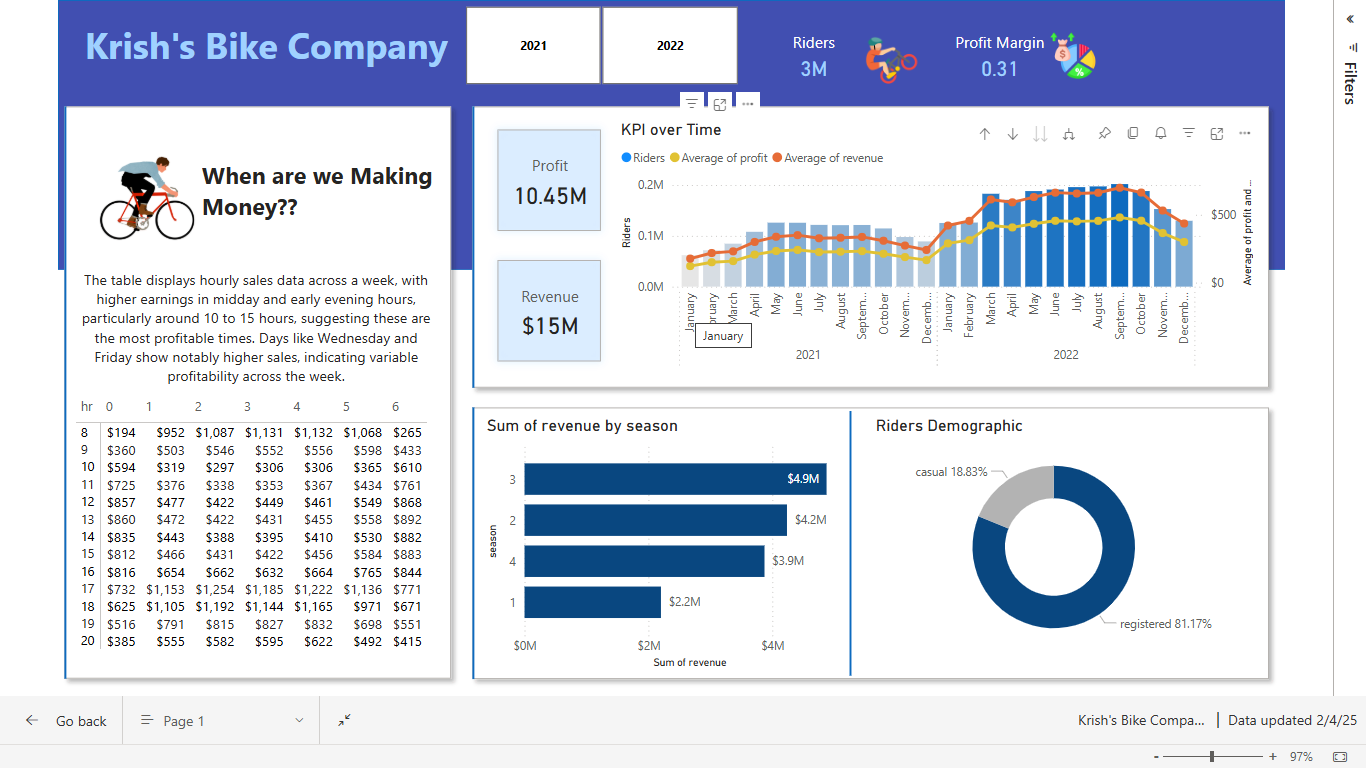

What the dashboard file says about the page in this screenshot:
{"tool":"powerbi","page":{"name":"Page 1","canvas":[1280,720],"ordinal":0},"visuals":[{"type":"shape","box":[10.1,0,1270.1,279.4],"z":0},{"type":"cardVisual","fields":{"Data":["Query1.riders"]},"box":[0,93.6,434.9,626.4],"z":1000},{"type":"cardVisual","fields":{"Data":["Query1.riders"]},"box":[421.9,93.6,858.2,325.4],"z":2000},{"type":"cardVisual","fields":{"Data":["Query1.riders"]},"box":[421.6,404.8,858.4,315.8],"z":3000},{"type":"cardVisual","fields":{"Data":["Query1.riders"]},"box":[20.2,110.9,171.3,168],"z":4000},{"type":"pivotTable","fields":{"Values":["Query1.revenue"],"Columns":["Query1.weekday"],"Rows":["Query1.hr"]},"box":[23.5,406.5,383,275.5],"z":5000},{"type":"textbox","box":[154.5,159.6,252,94.1],"z":6000},{"type":"textbox","box":[23.5,257,383,149.5],"z":7000},{"type":"lineClusteredColumnComboChart","title":"KPI over Time","fields":{"Category":["Query1.dteday.Variation.Date Hierarchy.Year","Query1.dteday.Variation.Date Hierarchy.Month","Query1.dteday.Variation.Date Hierarchy.Day"],"Y":["Query1.riders"],"Y2":["Query1.profit","Query1.revenue"]},"box":[587.9,124.3,663.5,265.4],"z":8000},{"type":"clusteredBarChart","fields":{"Category":["Query1.season"],"Y":["Query1.revenue"]},"box":[448.5,430,403.1,265.4],"z":9000},{"type":"donutChart","title":"Riders Demographic","fields":{"Category":["Query1.rider_type"],"Y":["Query1.riders"]},"box":[851.7,430,378,252],"z":10000},{"type":"shape","box":[823.1,425,13.4,273.8],"z":11000},{"type":"cardVisual","title":"KPI over Time","fields":{"Data":["Query1.profit","Query1.revenue"]},"box":[448.5,117.6,139.4,272.1],"z":12000},{"type":"cardVisual","fields":{"Data":["Query1.riders","Query1.Profit Margin"]},"box":[730.7,15.1,378,79],"z":13000},{"type":"textbox","box":[26.9,15.1,408.2,79],"z":13001},{"type":"slicer","fields":{"Values":["Query1.Year"]},"box":[406.5,0,330.9,94.1],"z":13002}]}

Visuals, with their boxes on the page's 1280x720 design canvas (x1, y1, x2, y2). These are canvas units, not pixel positions in the 1366x768 screenshot, which may show the page scaled, cropped or inside an application window:
shape: region(10, 0, 1280, 279)
cardVisual - Query1.riders: region(0, 94, 435, 720)
cardVisual - Query1.riders: region(422, 94, 1280, 419)
cardVisual - Query1.riders: region(422, 405, 1280, 721)
cardVisual - Query1.riders: region(20, 111, 192, 279)
pivotTable - Query1.revenue x Query1.weekday: region(24, 406, 406, 682)
textbox: region(154, 160, 406, 254)
textbox: region(24, 257, 406, 406)
"KPI over Time" lineClusteredColumnComboChart: region(588, 124, 1251, 390)
clusteredBarChart - Query1.season x Query1.revenue: region(448, 430, 852, 695)
"Riders Demographic" donutChart: region(852, 430, 1230, 682)
shape: region(823, 425, 836, 699)
"KPI over Time" cardVisual: region(448, 118, 588, 390)
cardVisual - Query1.riders x Query1.Profit Margin: region(731, 15, 1109, 94)
textbox: region(27, 15, 435, 94)
slicer - Query1.Year: region(406, 0, 737, 94)
